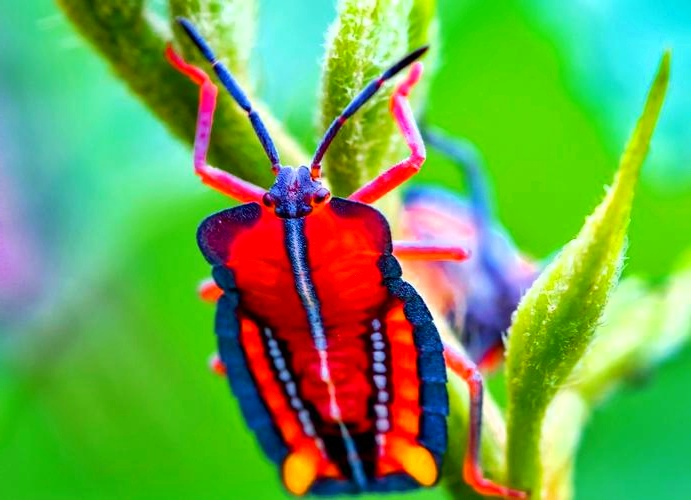Stink_Bug: (238, 119, 427, 495)
